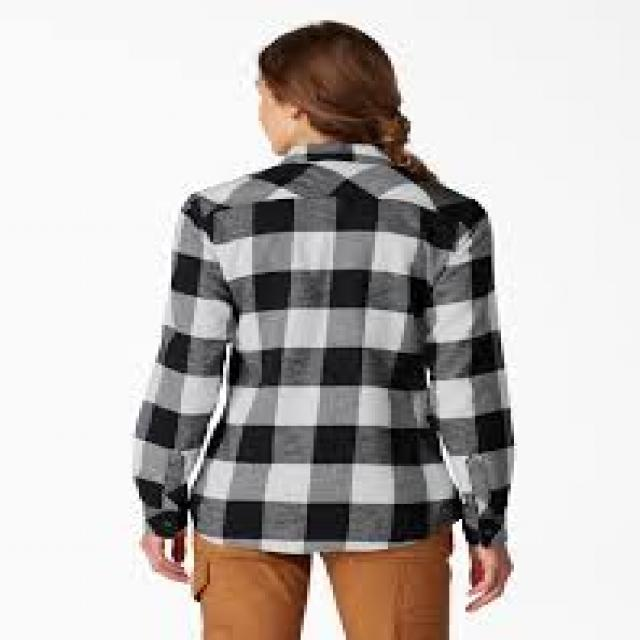plaid: (137, 134, 515, 552)
